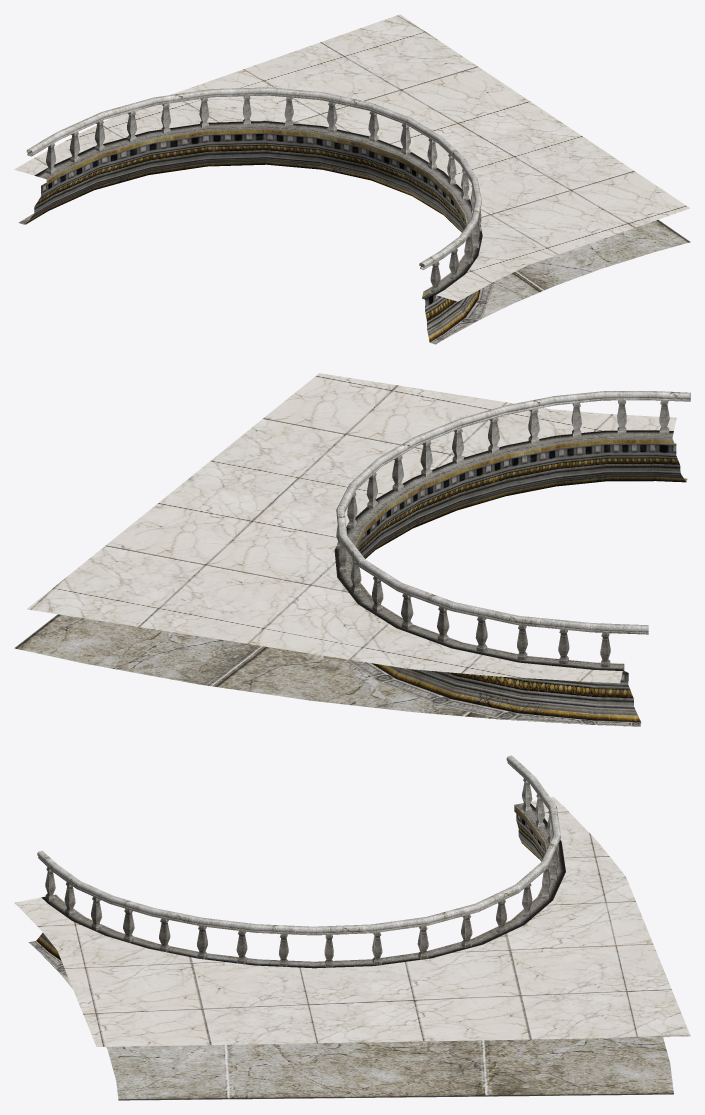
Rendered from Hallway_Balcony.FBX.
3 views of the same model, one above another, from view 1: azimuth 30°, elevation 25°; view 2: azimuth 150°, elevation 25°; view 3: azimuth 270°, elevation 25° (orthographic). The views are drawn at different scales.
Parts seen in each view (by area): view 1: SM_L_Hallway_Balcony; view 2: SM_L_Hallway_Balcony; view 3: SM_L_Hallway_Balcony.
Part boxes in pixels (<box>): SM_L_Hallway_Balcony: <box>14,14,690,344</box>; SM_L_Hallway_Balcony: <box>14,373,690,726</box>; SM_L_Hallway_Balcony: <box>14,755,690,1100</box>.
Size of what is drawn, in the model's own units: 985 by 1087 by 154.
